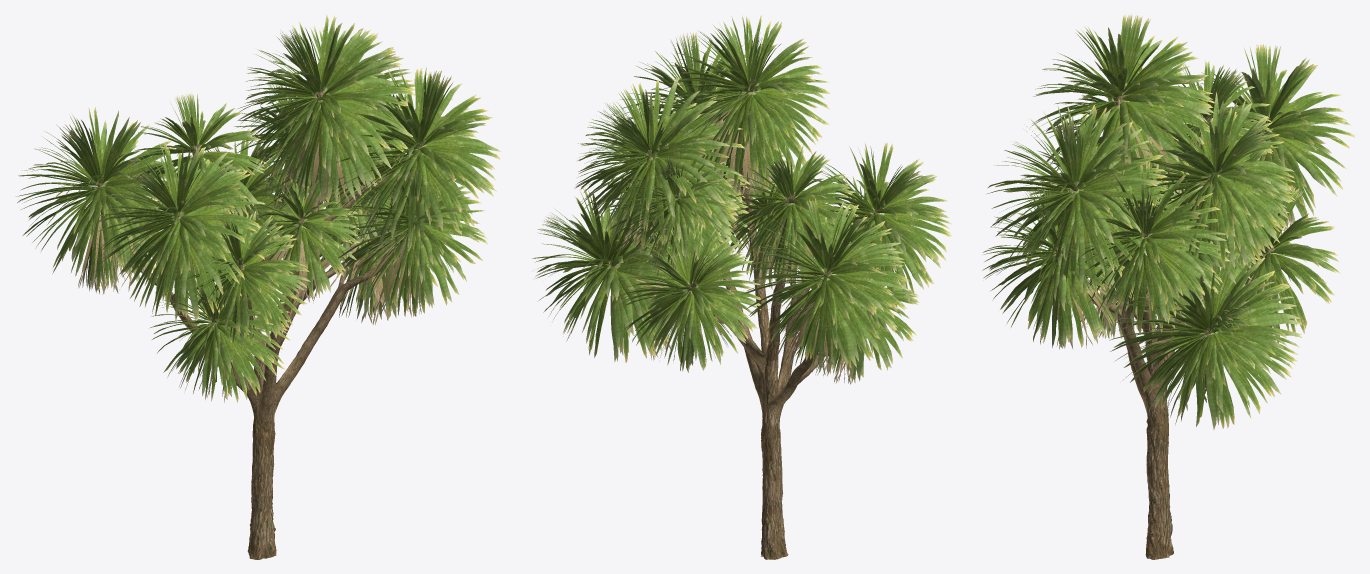
Rendered from cabbage-tree.glb.
3 views of the same model, side by side, from view 1: azimuth 30°, elevation 25°; view 2: azimuth 150°, elevation 25°; view 3: azimuth 270°, elevation 25° (orthographic). The views are drawn at different scales.
Visible parts, largest first — view 1: Fronds, Trunk; view 2: Fronds, Trunk; view 3: Fronds, Trunk.
Boxes of the visible parts, <box> form: Fronds: <box>15,14,500,402</box>; Trunk: <box>97,90,422,559</box>; Fronds: <box>532,15,952,384</box>; Trunk: <box>608,79,882,559</box>; Fronds: <box>982,14,1355,429</box>; Trunk: <box>1053,86,1271,559</box>.
Bounding box in the file's own units: 2.78 × 3.5 × 2.15.
Materials: 3 (3 with a texture image).
